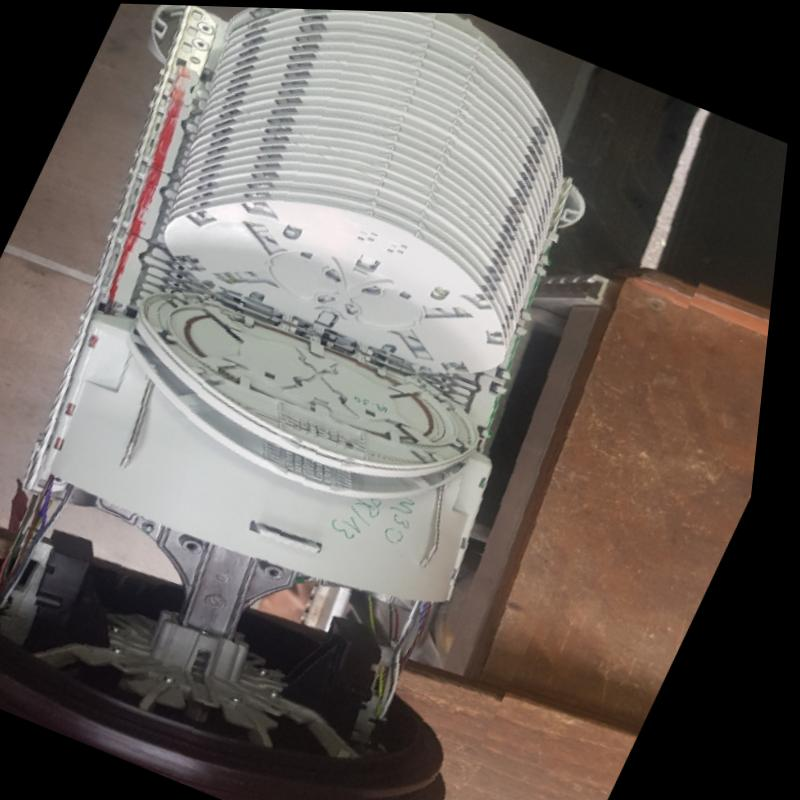NT-Muffen: (0, 4, 592, 800)
